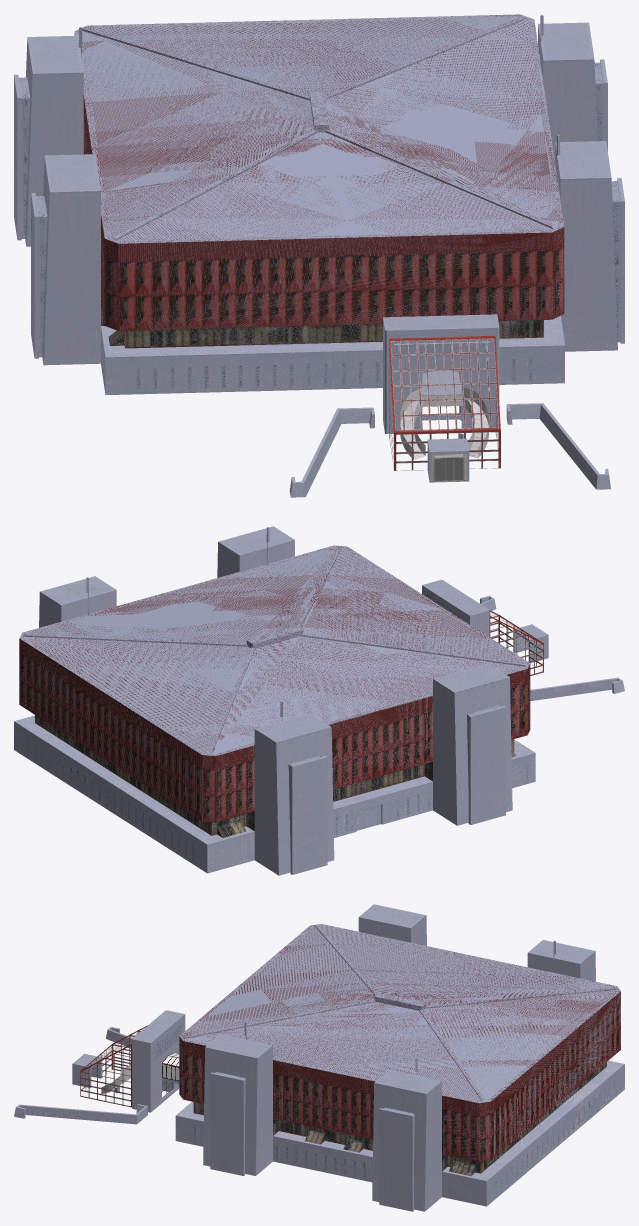
Rendered from univlibrary.fbx.
3 views of the same model, one above another, from view 1: azimuth 30°, elevation 25°; view 2: azimuth 150°, elevation 25°; view 3: azimuth 270°, elevation 25° (orthographic). The views are drawn at different scales.
Visible parts, largest first — view 1: Model; view 2: Model; view 3: Model.
Part boxes in pixels (bbox=[...]): Model: bbox=[14, 14, 624, 497]; Model: bbox=[14, 526, 624, 875]; Model: bbox=[14, 904, 624, 1211].
Size of the model in its own units: 68.46 by 22.1 by 91.55.
